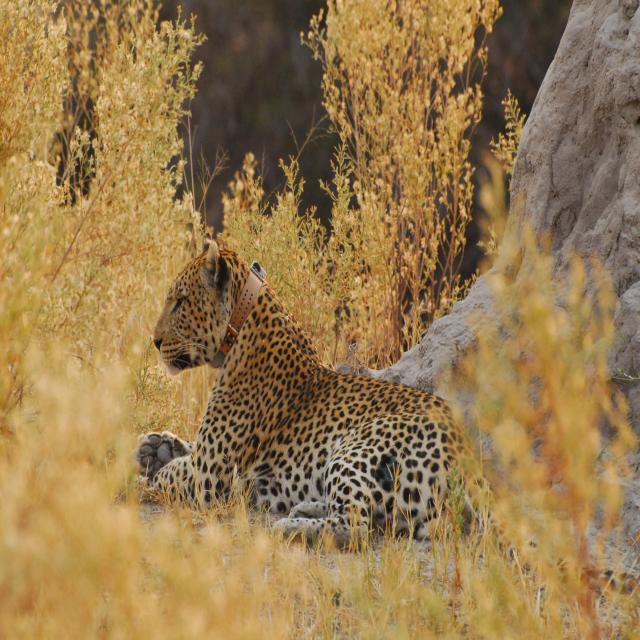Leopard: (116, 244, 626, 632)
